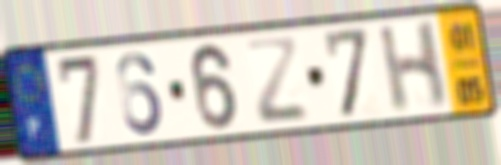6: (188, 39, 240, 133), (115, 49, 167, 138)
7: (322, 23, 375, 122), (53, 55, 105, 147)
H: (375, 17, 451, 117)
Z: (242, 36, 312, 128)
